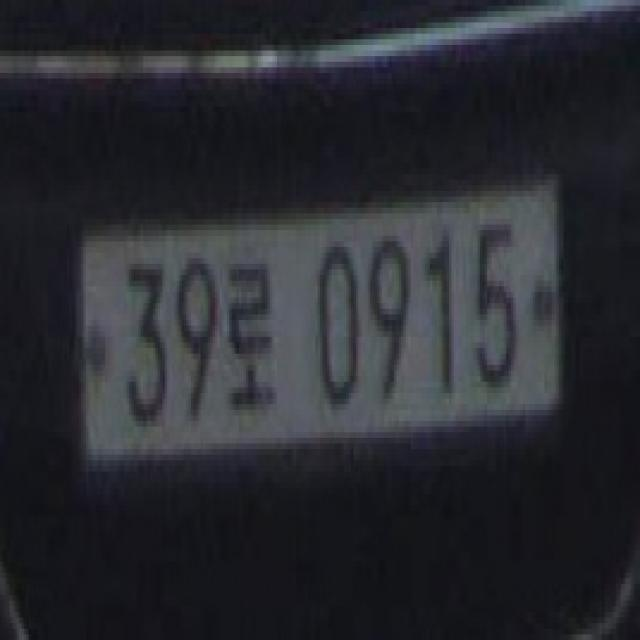0: (312, 236, 360, 415)
1: (428, 225, 456, 393)
3: (122, 253, 170, 432)
5: (468, 219, 518, 399)
9: (175, 253, 218, 432), (368, 230, 408, 404)
license_plate: (79, 168, 564, 478)
lo: (227, 253, 277, 427)
